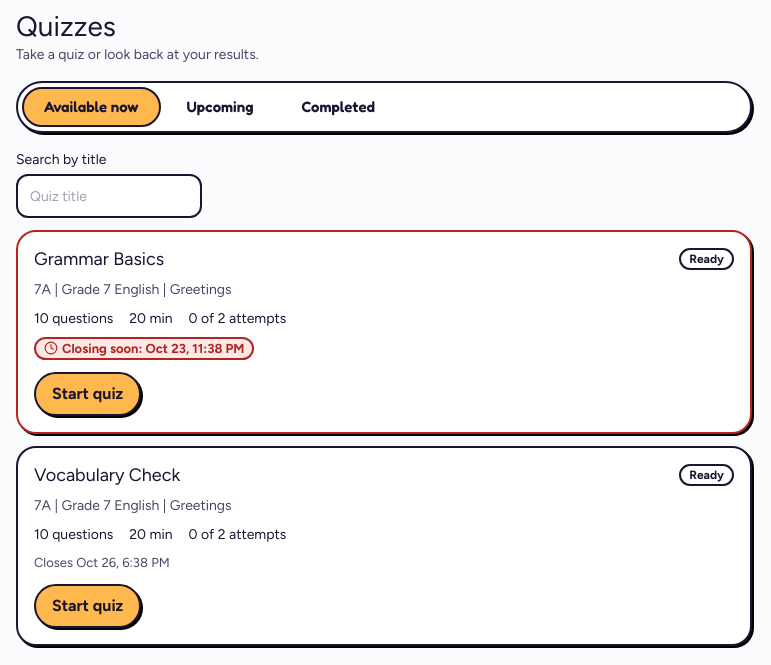
Test: QuizzesHubPage › searches by quiz title
Type "vocab" into the search field labelled "Search by title" at (109, 196), box [16,174,202,218]
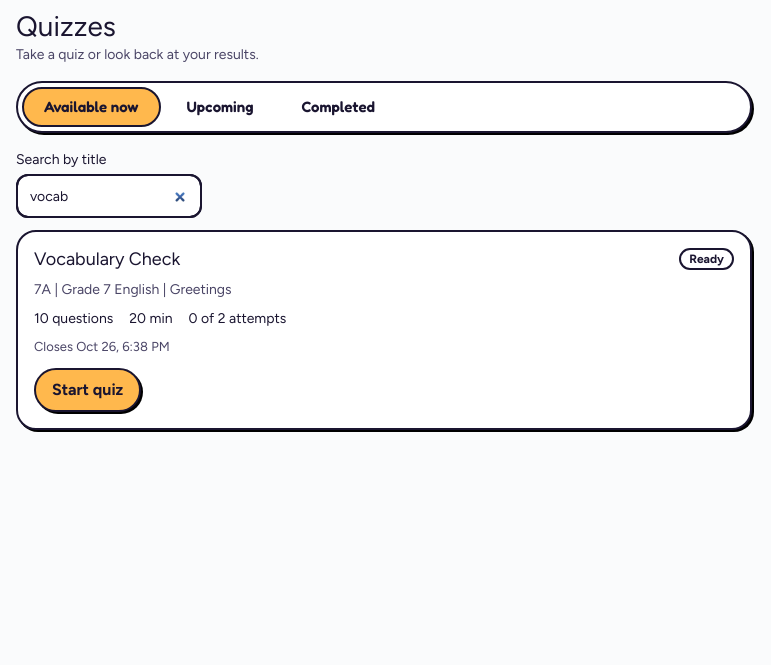
Expected: the heading "Vocabulary Check" is shown, [34,248,180,270]
Expected: the heading "Grammar Basics" is gone
